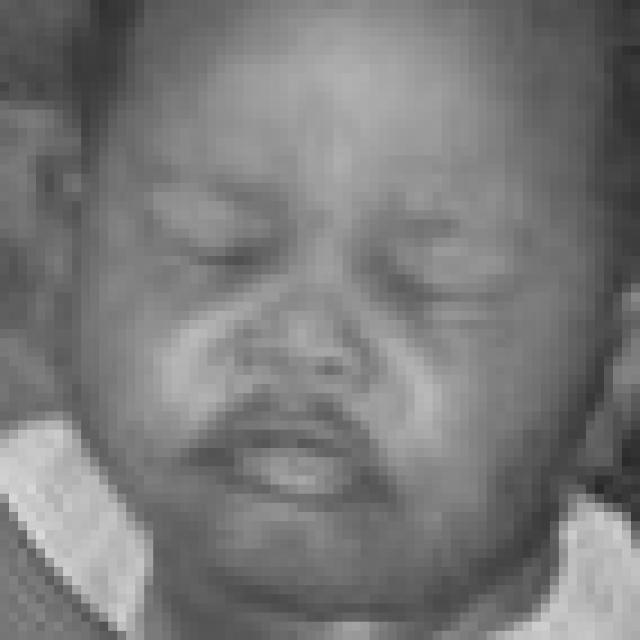real: (136, 24, 564, 580), (150, 182, 516, 320)
